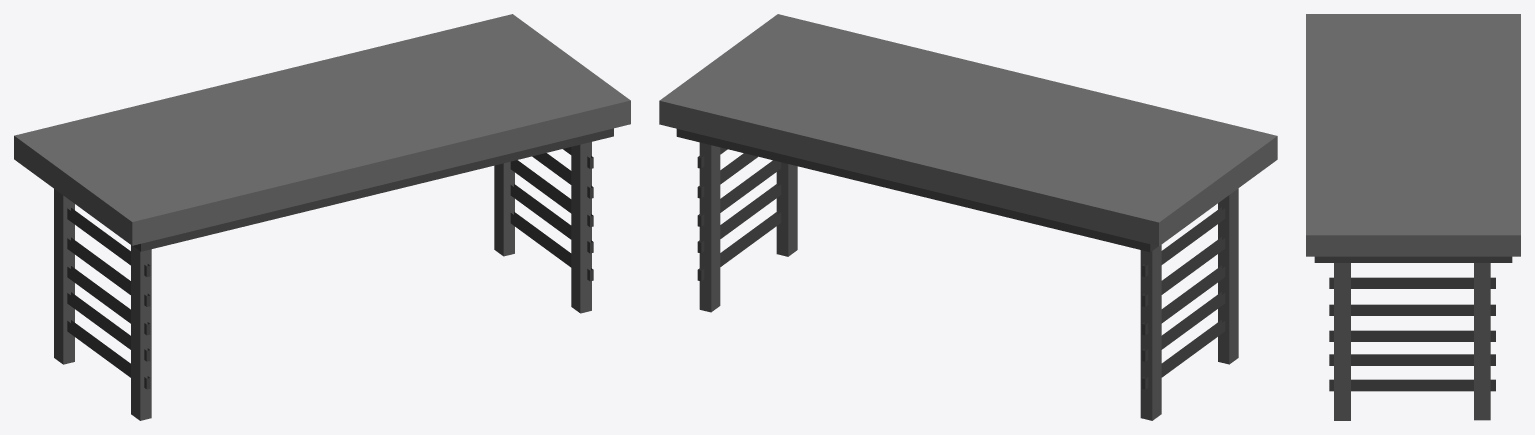
File: table_B.FBX
The picture shows the model from 3 angles, left to right: view 1: azimuth 30°, elevation 25°; view 2: azimuth 150°, elevation 25°; view 3: azimuth 270°, elevation 25°; orthographic projection. The views are drawn at different scales.
Parts seen in each view (by area): view 1: table_B; view 2: table_B; view 3: table_B.
Boxes of the visible parts, x1,y1,x2,y2 form: table_B: (14,14,630,420); table_B: (659,14,1277,420); table_B: (1306,14,1520,420).
Bounding box in the file's own units: 93.11 × 38.51 × 38.22.
